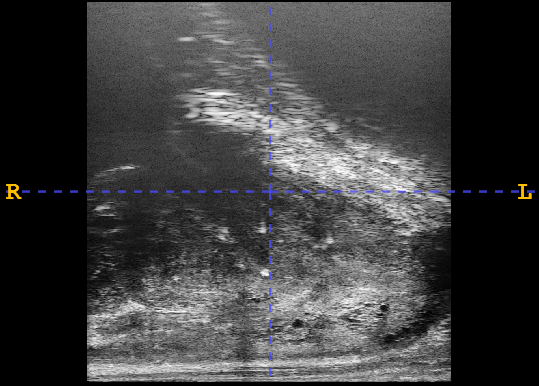calcifications: (177, 200, 346, 285)
